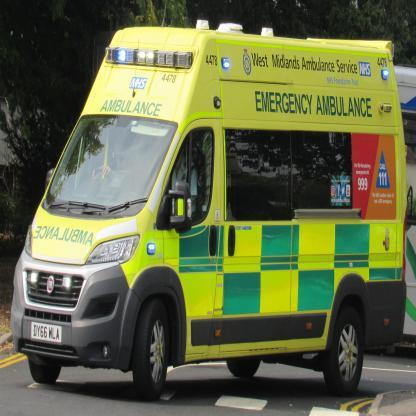Ambulance - v1 Ambulance last generate: (7, 31, 403, 386)
